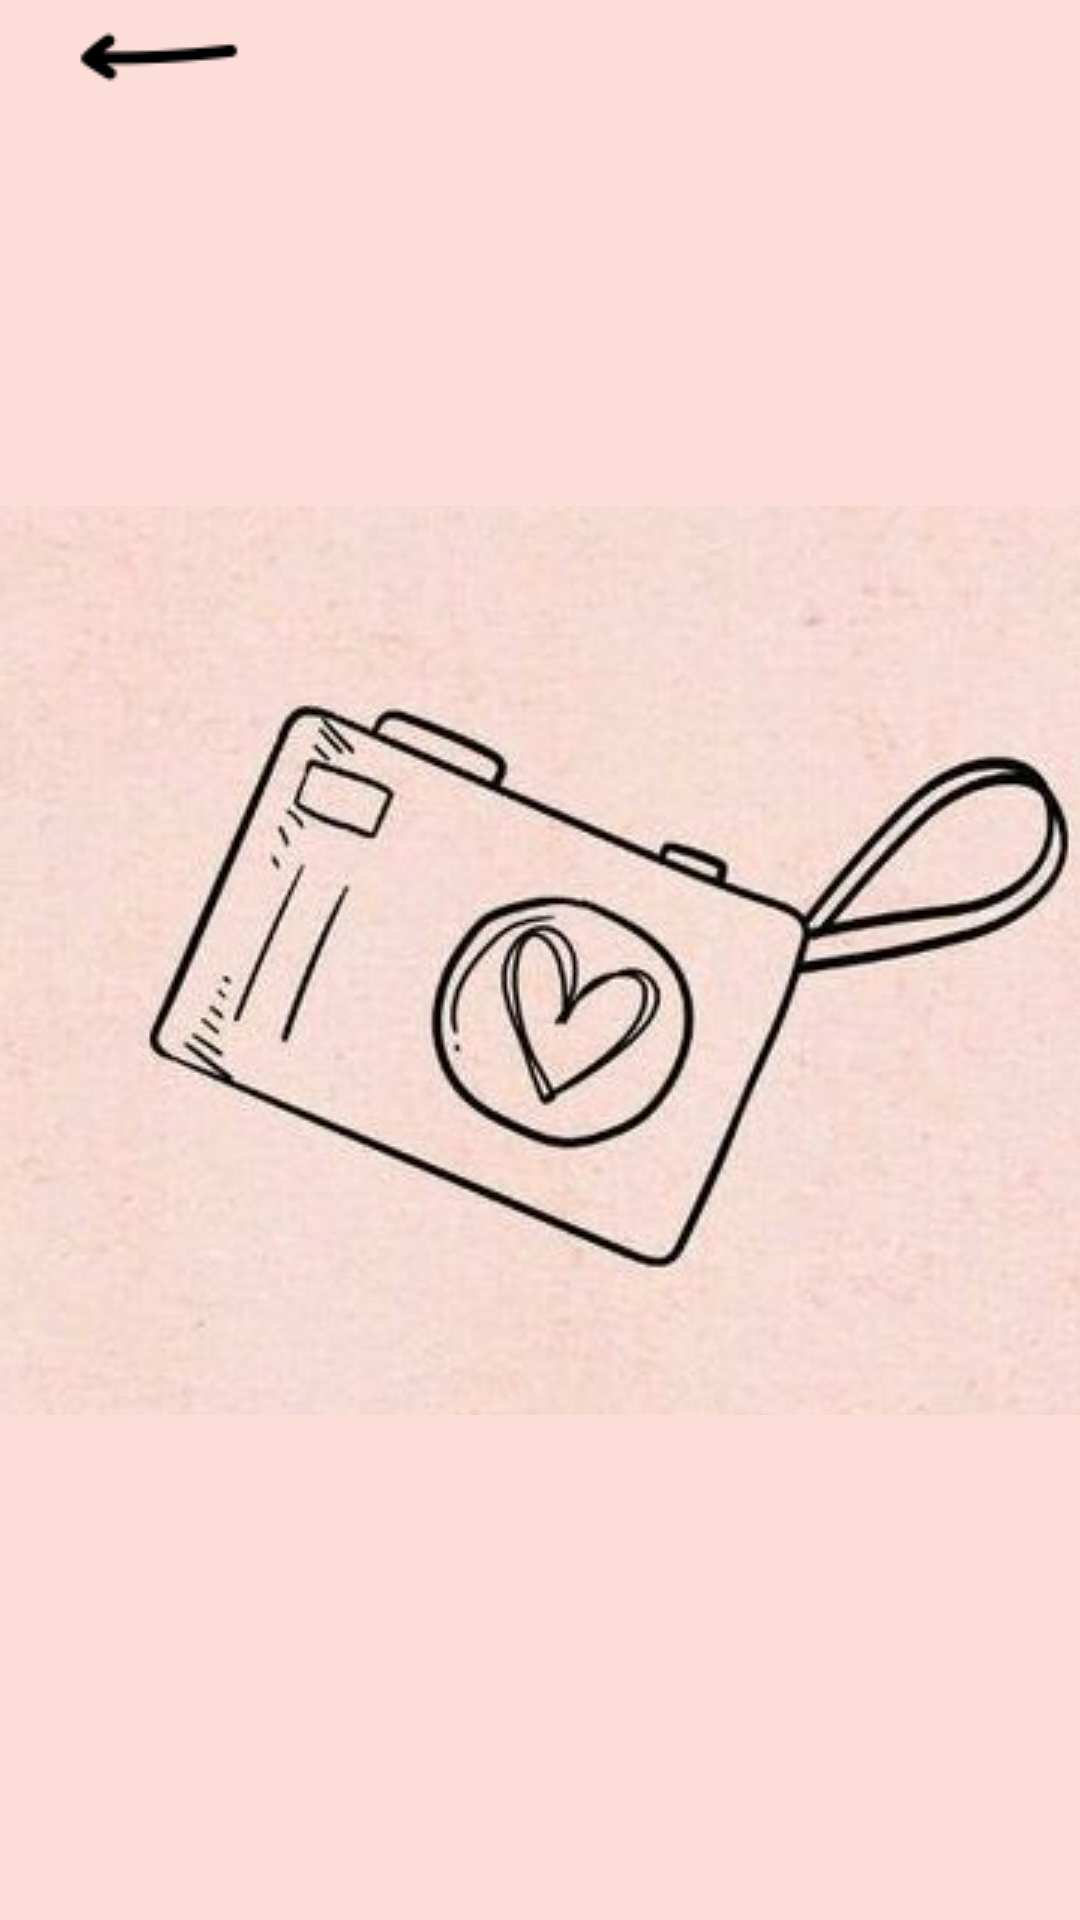

Where to tap for icons on this 1080*1920 app screen, as point (x, y):
left: point (159, 57)
